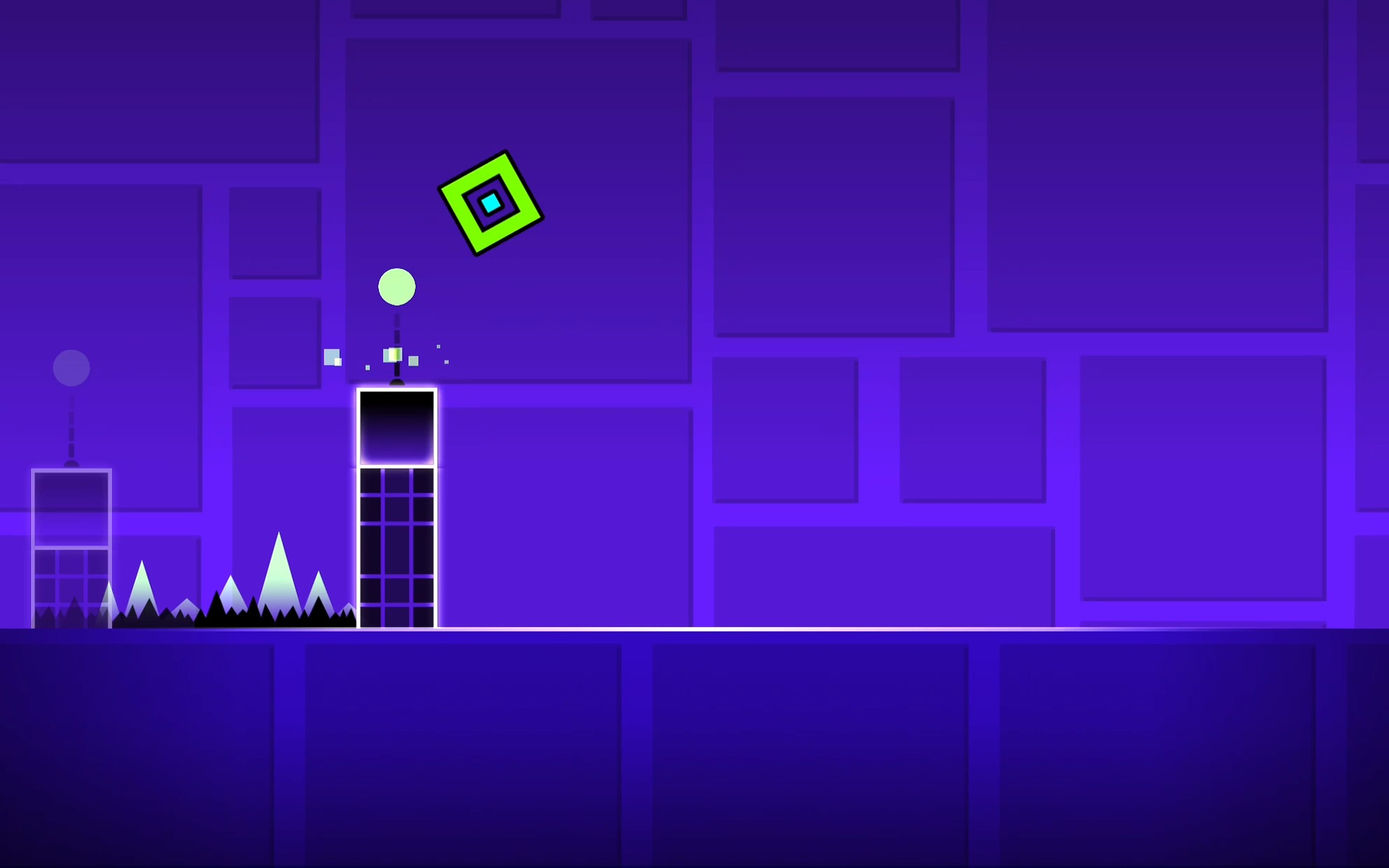Block: (358, 387, 438, 465), (32, 468, 110, 547)
Block2: (360, 468, 435, 630), (34, 546, 111, 627)
Player: (439, 151, 543, 254)
Spike3: (113, 599, 356, 629)
